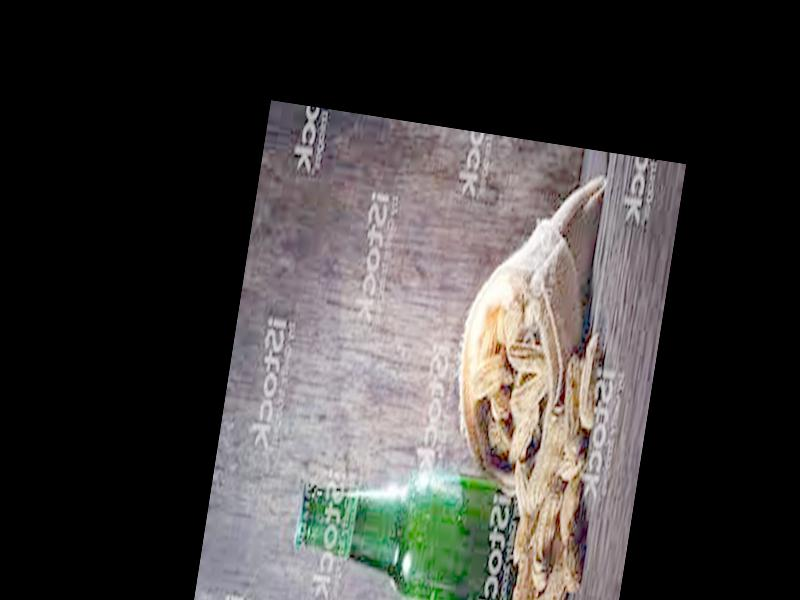Beer: (285, 446, 547, 600)
